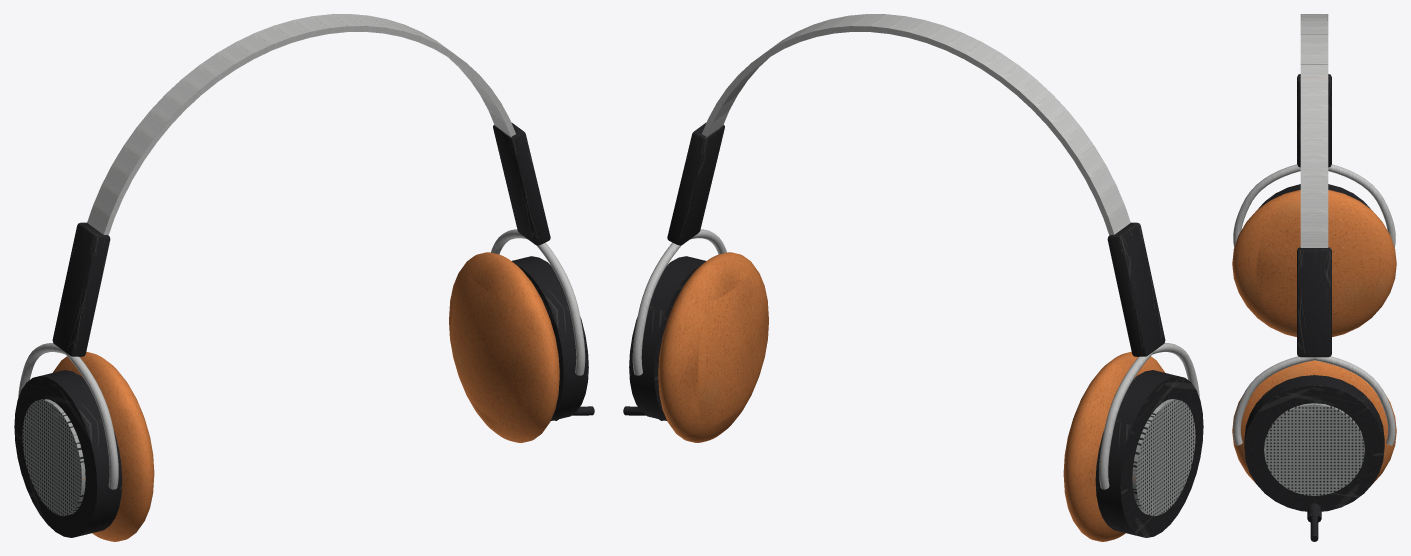
File: headphones-retro.glb
The picture shows the model from 3 angles, left to right: view 1: azimuth 30°, elevation 25°; view 2: azimuth 150°, elevation 25°; view 3: azimuth 270°, elevation 25°; orthographic projection. The views are drawn at different scales.
Parts seen in each view (by area): view 1: headphones; view 2: headphones; view 3: headphones.
Part boxes in pixels (x1,y1,x2,y2): headphones: (14, 14, 594, 541); headphones: (623, 14, 1203, 541); headphones: (1232, 14, 1396, 541).
Bounding box in the file's own units: 3.01 × 2.45 × 0.94.
1 material, 1 textured.
